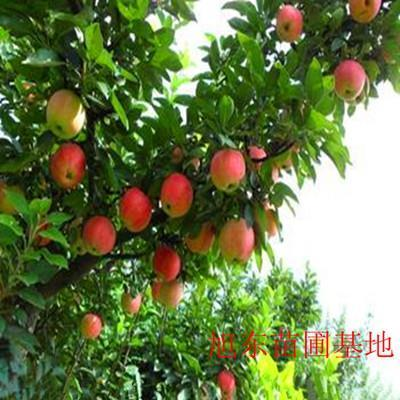apple: (42, 88, 85, 140), (218, 220, 255, 264), (48, 145, 85, 189), (210, 150, 247, 193), (159, 174, 196, 217), (116, 188, 153, 231), (331, 59, 366, 102), (83, 216, 116, 255), (275, 5, 303, 43), (80, 314, 102, 340)
